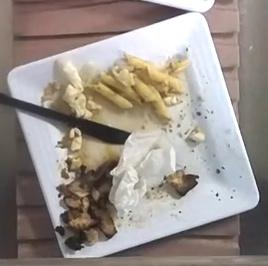pasta: (91, 53, 188, 123)
vegetables: (55, 161, 117, 249)
